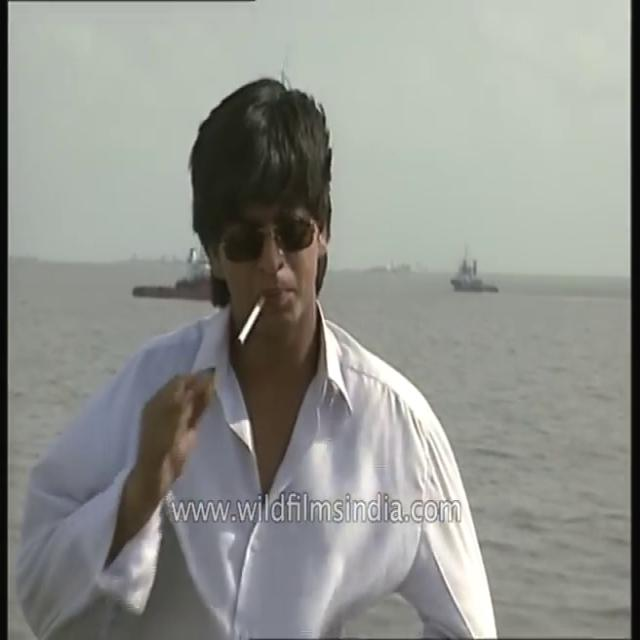Smooking: (232, 295, 271, 357)
